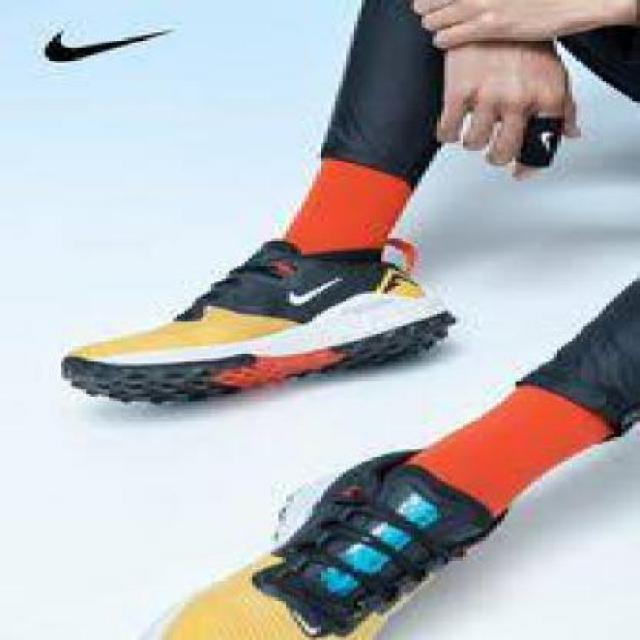Nike: (38, 20, 174, 66), (283, 271, 343, 307)
